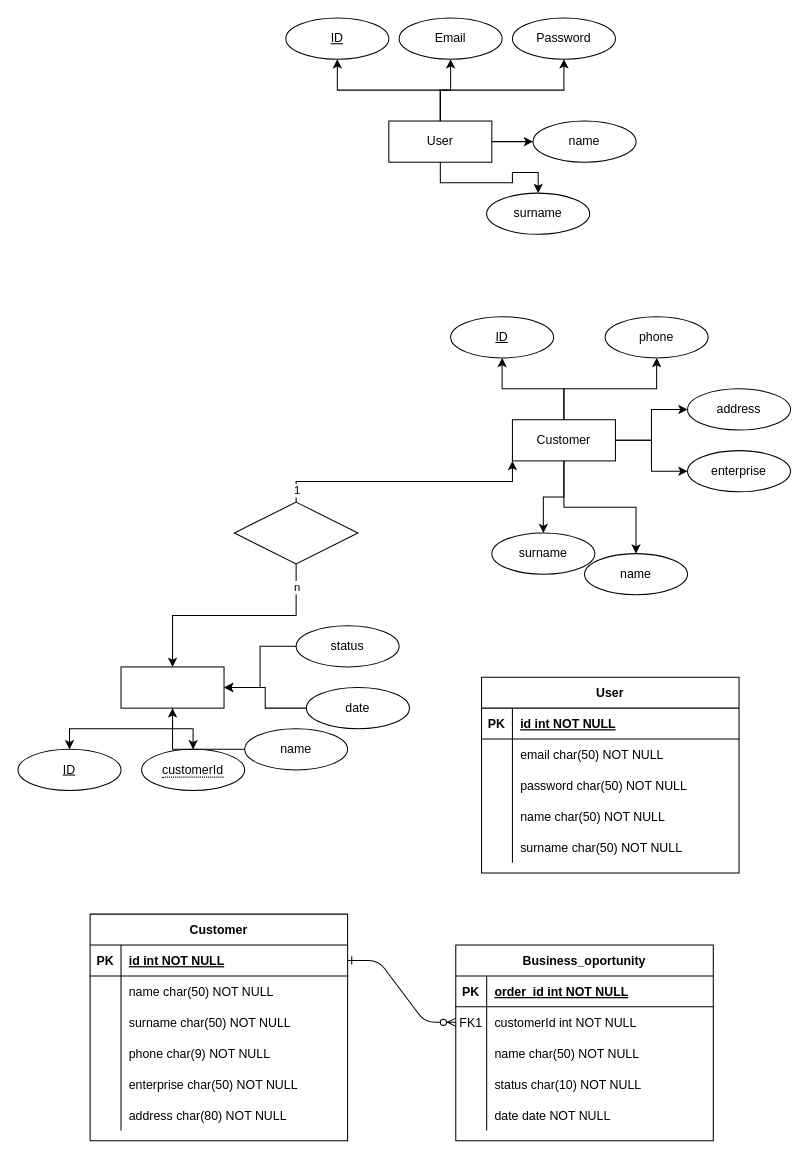
This 809x1159 diagram has some shape labels left out. Here are the shapes that lost their labels. From the top down, the centre of each, then its label:
pixel 295 532: Has
pixel 172 687: BusinessOportunity
